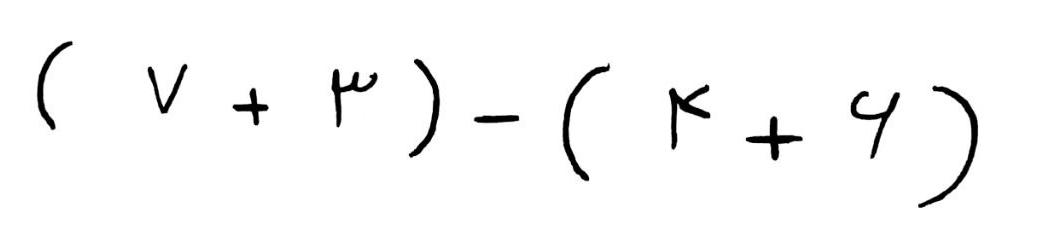character: (917, 85, 979, 209), (564, 62, 613, 183), (35, 40, 77, 131), (850, 90, 901, 159), (409, 58, 441, 160), (331, 67, 379, 131), (746, 118, 806, 165), (669, 81, 710, 149), (147, 65, 188, 115), (232, 88, 271, 128), (475, 112, 520, 124)
